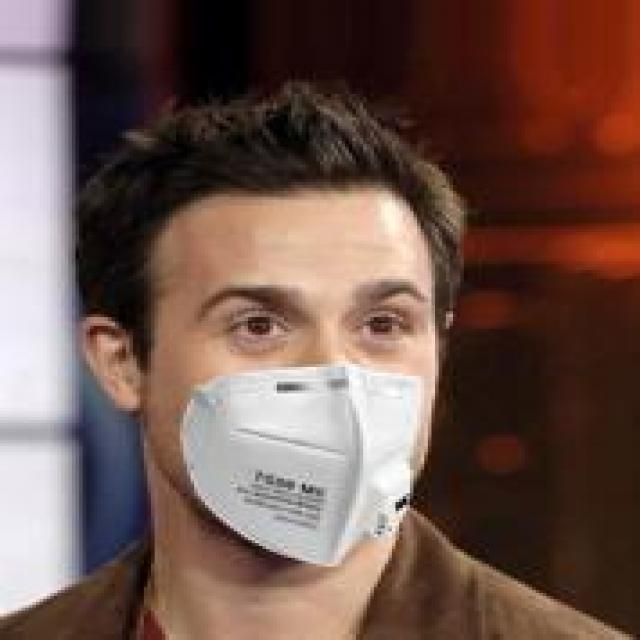mask: (72, 56, 482, 566)
